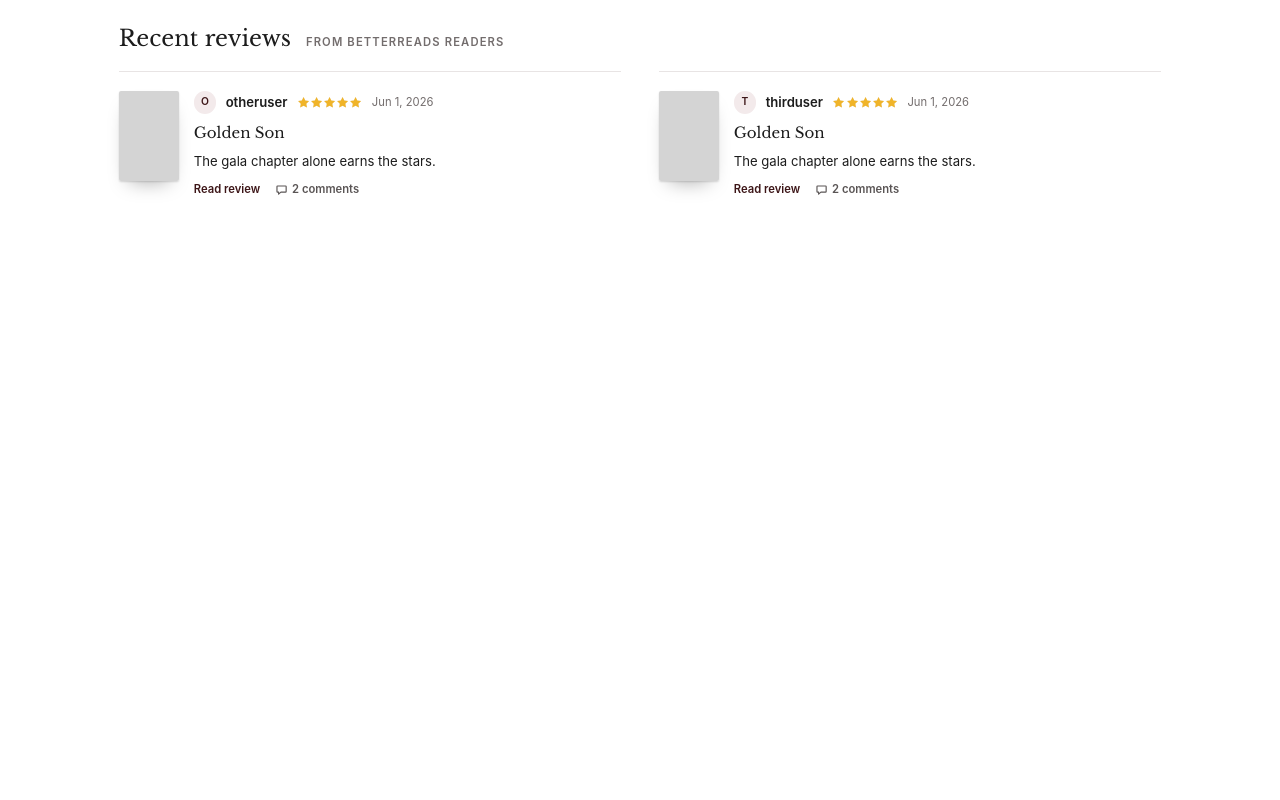
it: RecentReviews › should ask before moving to the next review over an unposted comment
Click the button named "Read otheruser's review of Golden Son" at (370, 144), box [108,72,632,215]
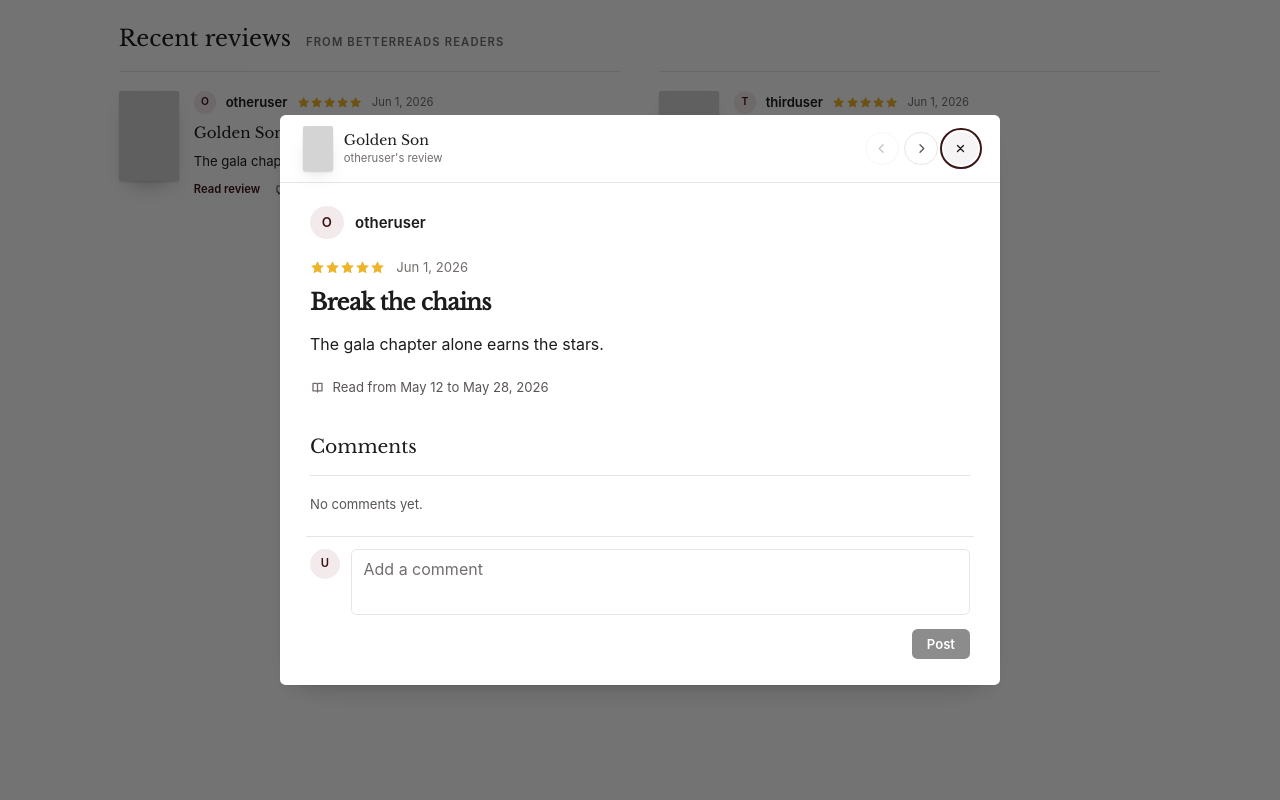
Type "Agreed" into the text box labelled "Add a comment" at (661, 582), box [351,549,970,615]
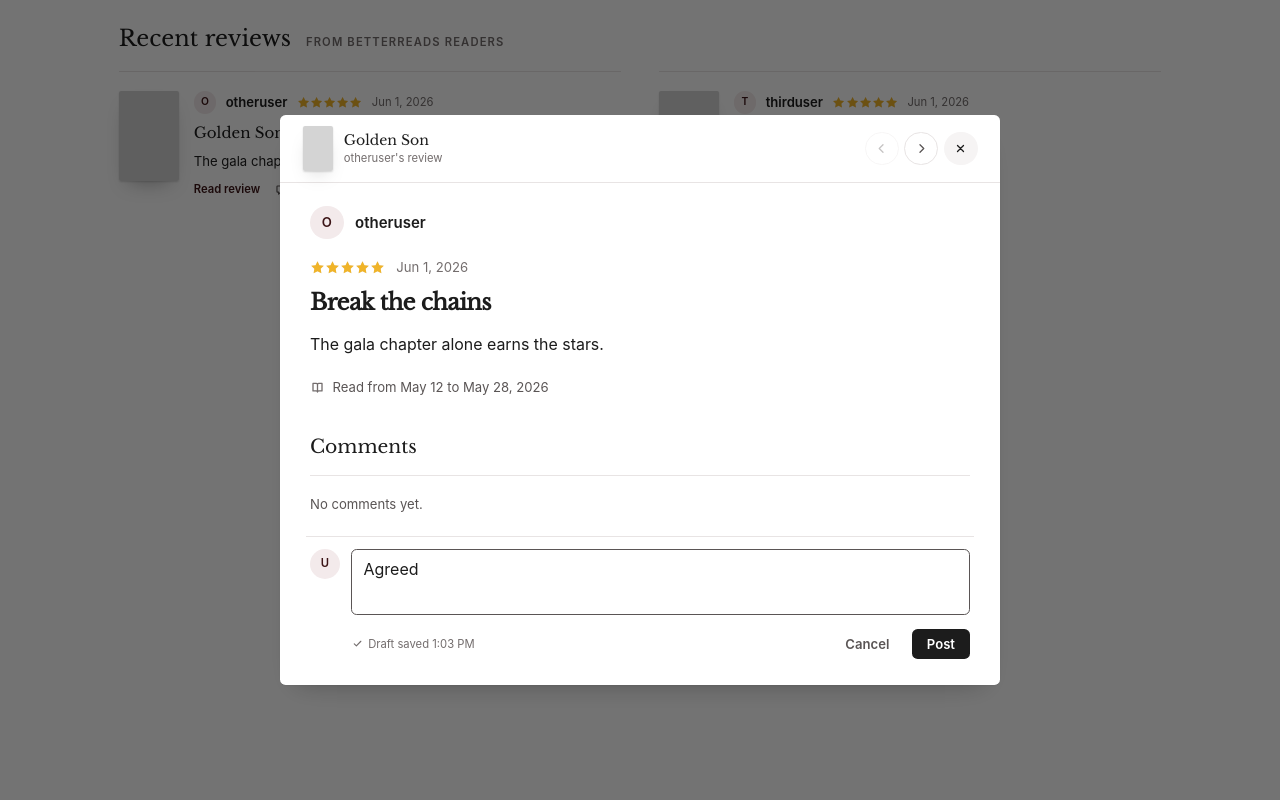
Click the button named "Next review" at (921, 148), box [904,132,938,165]
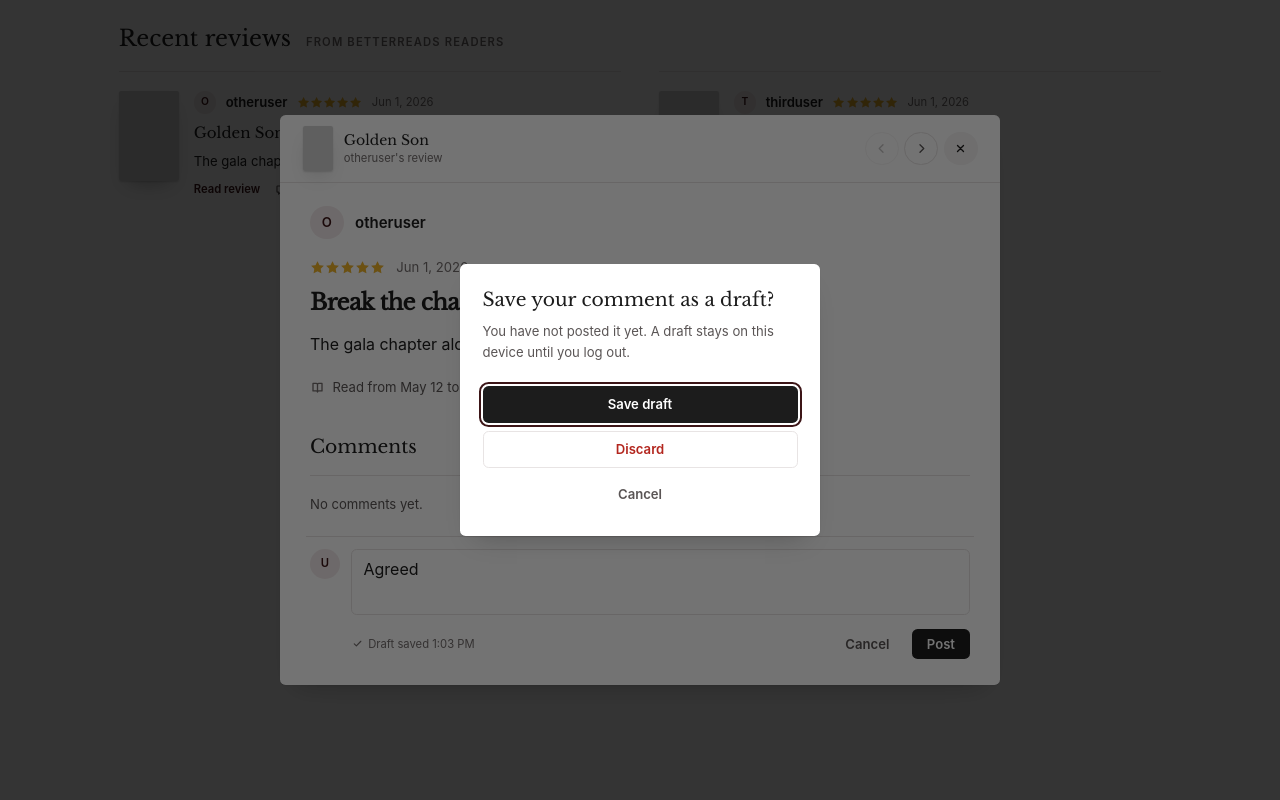
Expected: the heading "Break the chains" is shown, [310,288,491,316]
Expected: the dialog "Save your comment as a draft?" is shown, [460,264,820,536]
